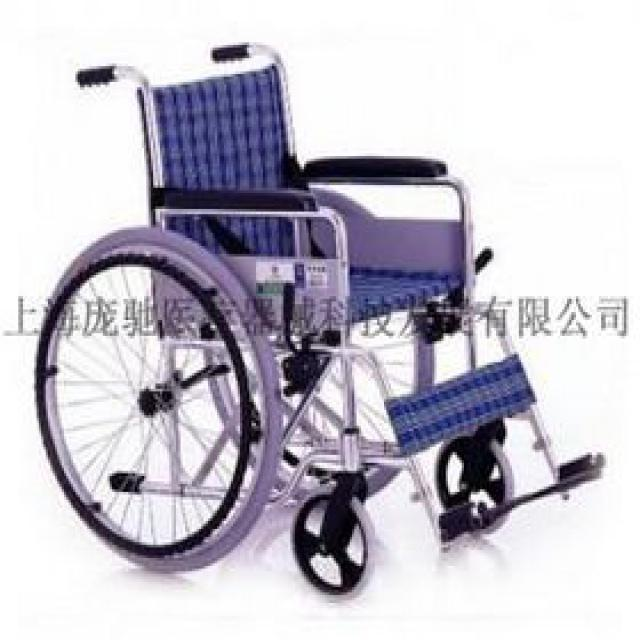wheelchairs: (32, 42, 604, 597)
